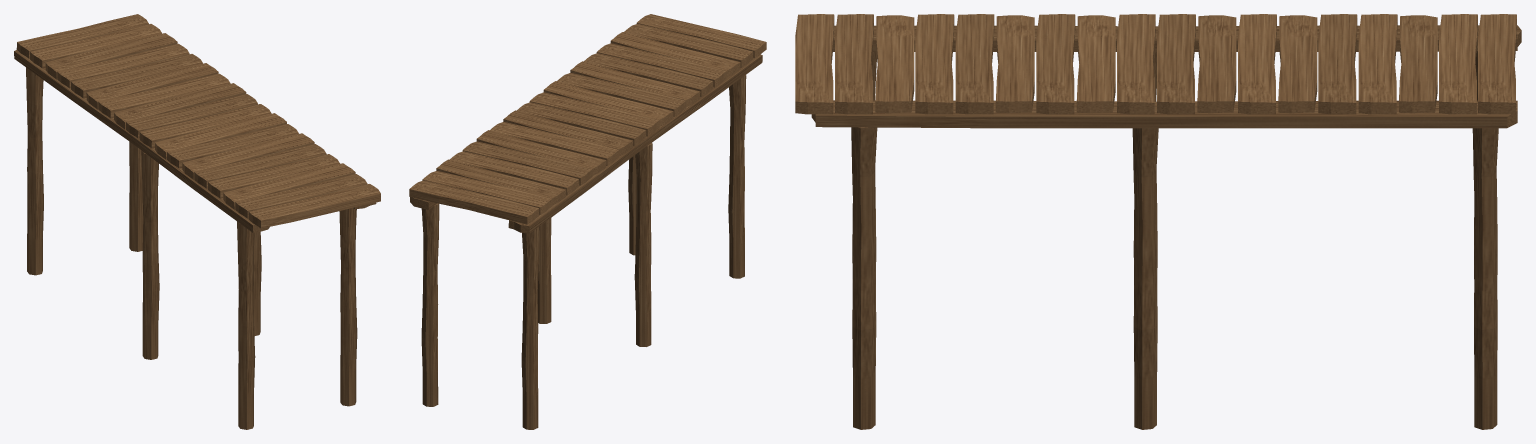
File: wooden_bridge_joined.glb
The picture shows the model from 3 angles, left to right: view 1: azimuth 30°, elevation 25°; view 2: azimuth 150°, elevation 25°; view 3: azimuth 270°, elevation 25°; orthographic projection. The views are drawn at different scales.
Visible parts, largest first — view 1: Cube.010; view 2: Cube.010; view 3: Cube.010.
Part boxes in pixels (box(x1,y1,x2,y2)): Cube.010: box(14, 14, 380, 429); Cube.010: box(409, 14, 766, 429); Cube.010: box(795, 14, 1521, 429).
Bounding box in the file's own units: 11.25 × 19.28 × 38.25.
1 material, 1 textured.
